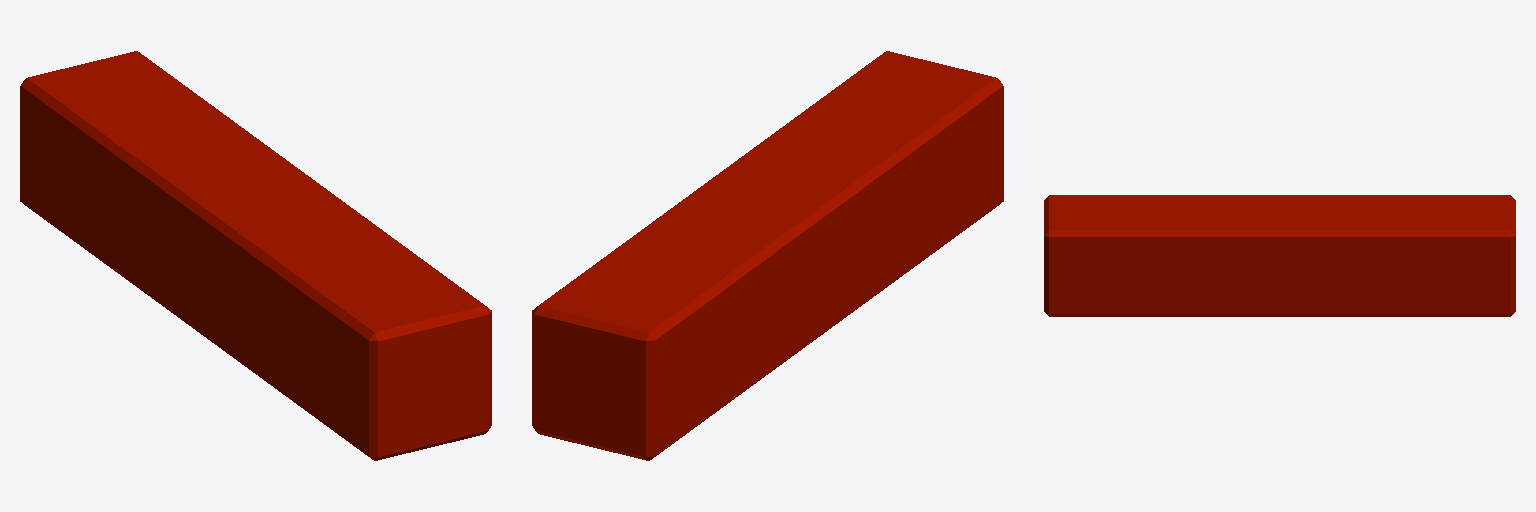
robot.urdf — obj_6:
<robot name="obj_6" version="1.0">
  <link name="obj_6">
    <collision name="obj_6.001">
      <origin rpy="0.00000 0.00000 0.00000" xyz="0.00000 0.00000 0.00000"/>
      <geometry>
        <mesh filename="../meshes/obj/geometry_0.004.obj" scale="1.00000 1.00000 1.00000"/>
      </geometry>
    </collision>
    <inertial>
      <inertia ixx="0.00022" ixy="-0.00000" ixz="-0.00000" iyy="0.00002" iyz="-0.00000" izz="0.00022"/>
      <origin rpy="0.00000 0.00000 0.00000" xyz="0.00000 0.00000 0.00000"/>
      <mass value="0.01000"/>
    </inertial>
    <visual name="obj_6_vis">
      <material name="turnarrow_vermillion"/>
      <origin rpy="0.00000 0.00000 1.57080" xyz="-0.21374 0.24977 0.24783"/>
      <geometry>
        <mesh filename="../meshes/obj/obj_1_LUBAANSUO2.stp.005.obj" scale="0.00500 0.00500 0.00500"/>
      </geometry>
    </visual>
  </link>
  <material name="turnarrow_vermillion">
    <color rgba="0.66275 0.10980 0.00000 1.00000"/>
  </material>
</robot>

--- What the picture shows (computed from the rendered views, not written in the file) ---
The picture shows the robot from 3 angles, left to right: view 1: azimuth 30°, elevation 25°; view 2: azimuth 150°, elevation 25°; view 3: azimuth 270°, elevation 25°; orthographic projection.
Model obj_6 with 1 links and 0 joints (none), rooted at obj_6, posed all joints at 0.
Visible links, largest first — view 1: obj_6; view 2: obj_6; view 3: obj_6.
Link boxes in pixels (x1,y1,x2,y2): obj_6: (20, 51, 491, 460); obj_6: (532, 51, 1003, 460); obj_6: (1044, 195, 1515, 316).
Size in the robot's own frame: 0.1 by 0.5 by 0.1 metres.
1 mesh visuals loaded from 1 distinct referenced files (1 OBJ).